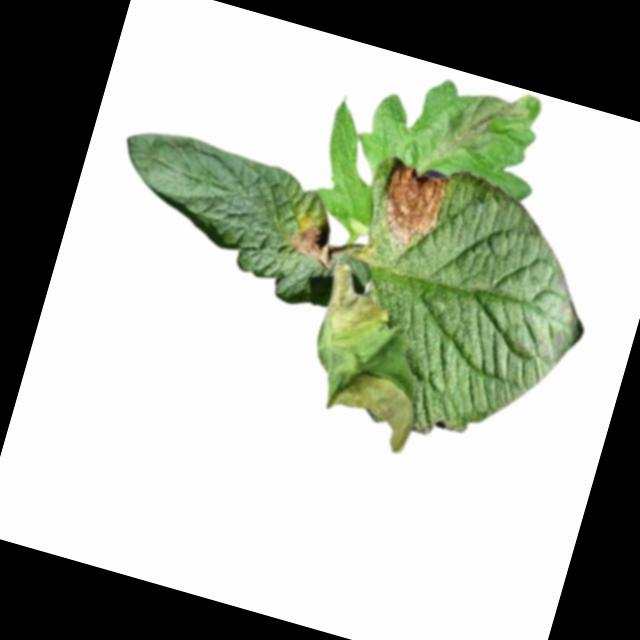Late_blight: (439, 74, 535, 178), (323, 362, 424, 456), (367, 155, 451, 256), (314, 259, 399, 356), (285, 218, 340, 270)
